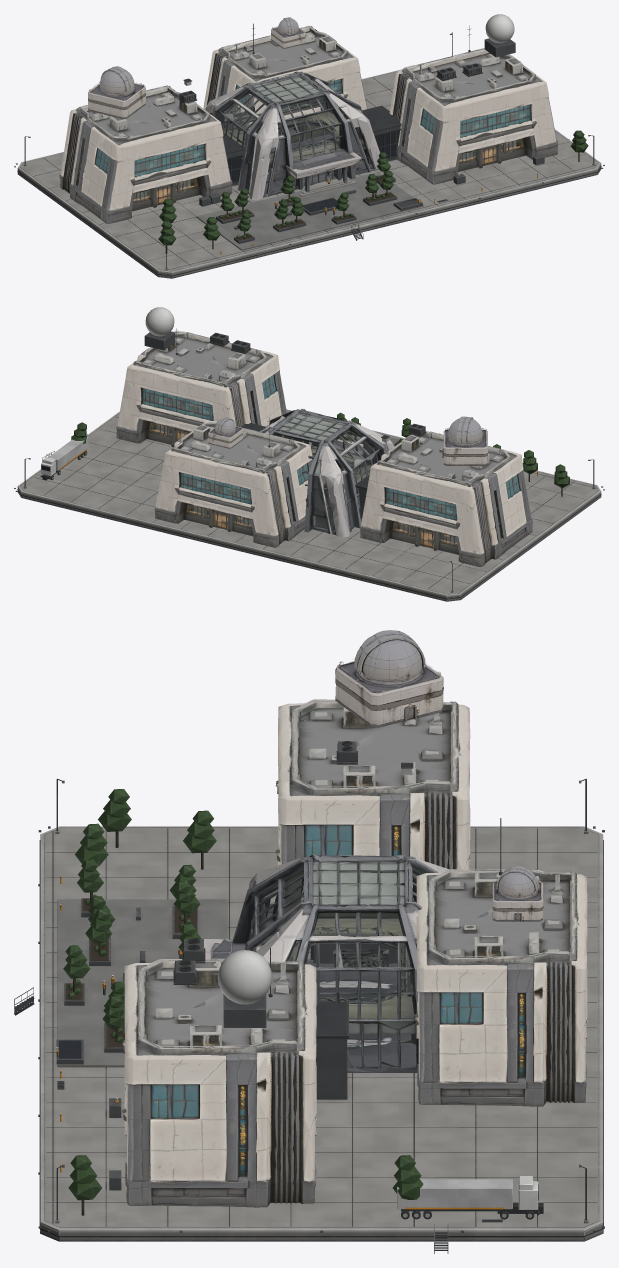
File: university.glb
3 views of the same model, one above another, from view 1: azimuth 30°, elevation 25°; view 2: azimuth 150°, elevation 25°; view 3: azimuth 270°, elevation 25° (orthographic). The views are drawn at different scales.
Parts seen in each view (by area): view 1: parts_colony-facetedWing, hull, parts_colony-atriumHall, parts_colony-obsDome; view 2: parts_colony-facetedWing, hull, parts_colony-atriumHall, parts_colony-obsDome, parts_yard-truck; view 3: hull, parts_colony-facetedWing, parts_colony-atriumHall, parts_colony-obsDome, parts_yard-truck.
Part boxes in pixels (x1,y1,x2,y2): parts_colony-facetedWing: (59, 25, 557, 223); hull: (14, 14, 604, 278); parts_colony-atriumHall: (205, 71, 379, 200); parts_colony-obsDome: (88, 17, 305, 118); parts_colony-facetedWing: (116, 330, 532, 566); hull: (14, 307, 604, 601); parts_colony-atriumHall: (259, 408, 393, 537); parts_colony-obsDome: (208, 416, 487, 465); parts_yard-truck: (40, 437, 88, 480); hull: (14, 741, 604, 1253); parts_colony-facetedWing: (122, 699, 587, 1207); parts_colony-atriumHall: (204, 854, 448, 1072); parts_colony-obsDome: (335, 630, 543, 921); parts_yard-truck: (397, 1176, 543, 1219).
Bounding box in the file's own units: 115 × 32.17 × 69.29.
6 materials, 6 textured.
